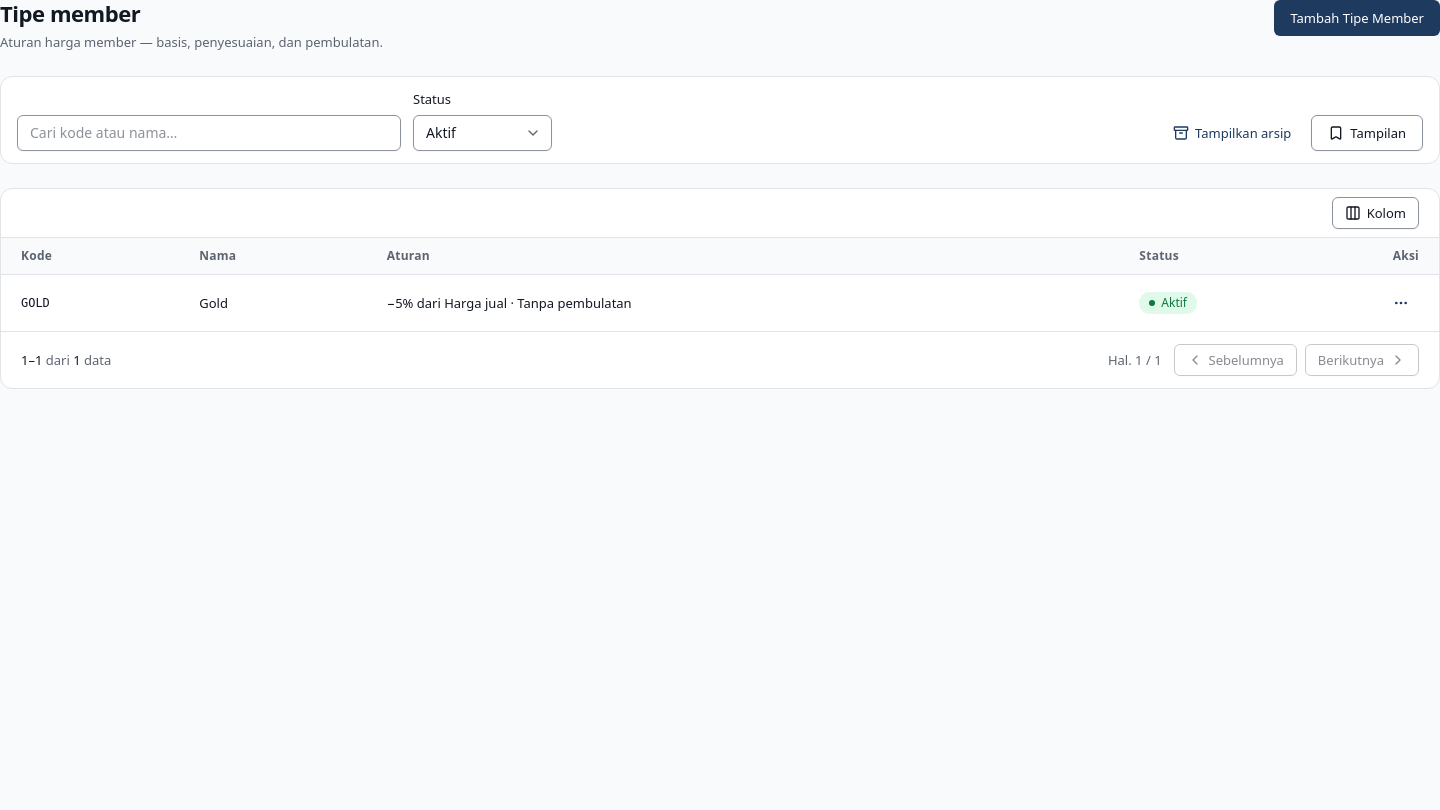
Test: halaman tipe member — dampak arsip (D3) › gagal memuat jumlah: peringatan tetap muncul dan arsip tidak terhalang
expect the text "Gold" is shown: met, box [199,294,228,312]
Click the button named "Aksi untuk Gold" at (1401, 302), box [1383,284,1419,320]
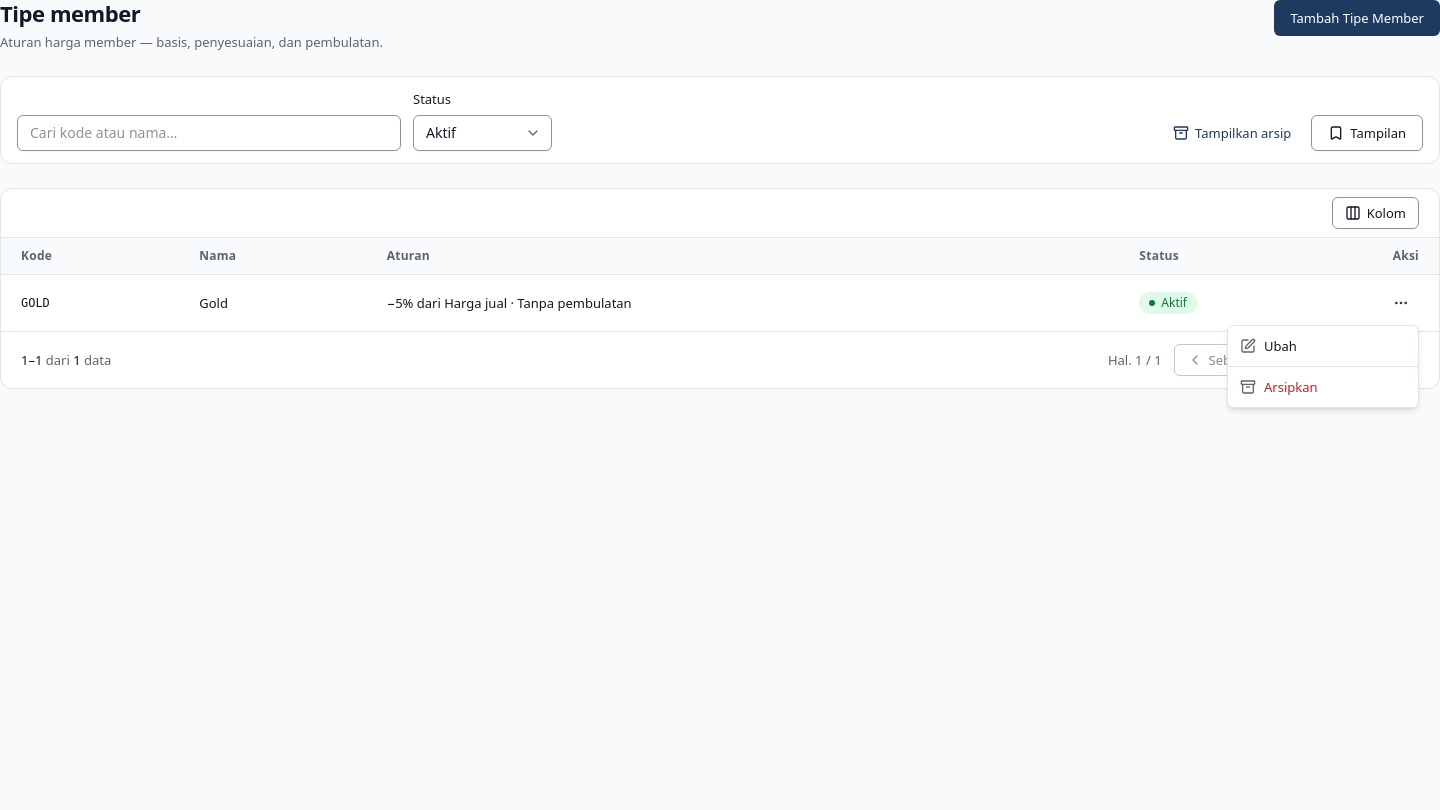
Click the menu item "Arsipkan" at (1279, 387), box [1240,378,1318,396]
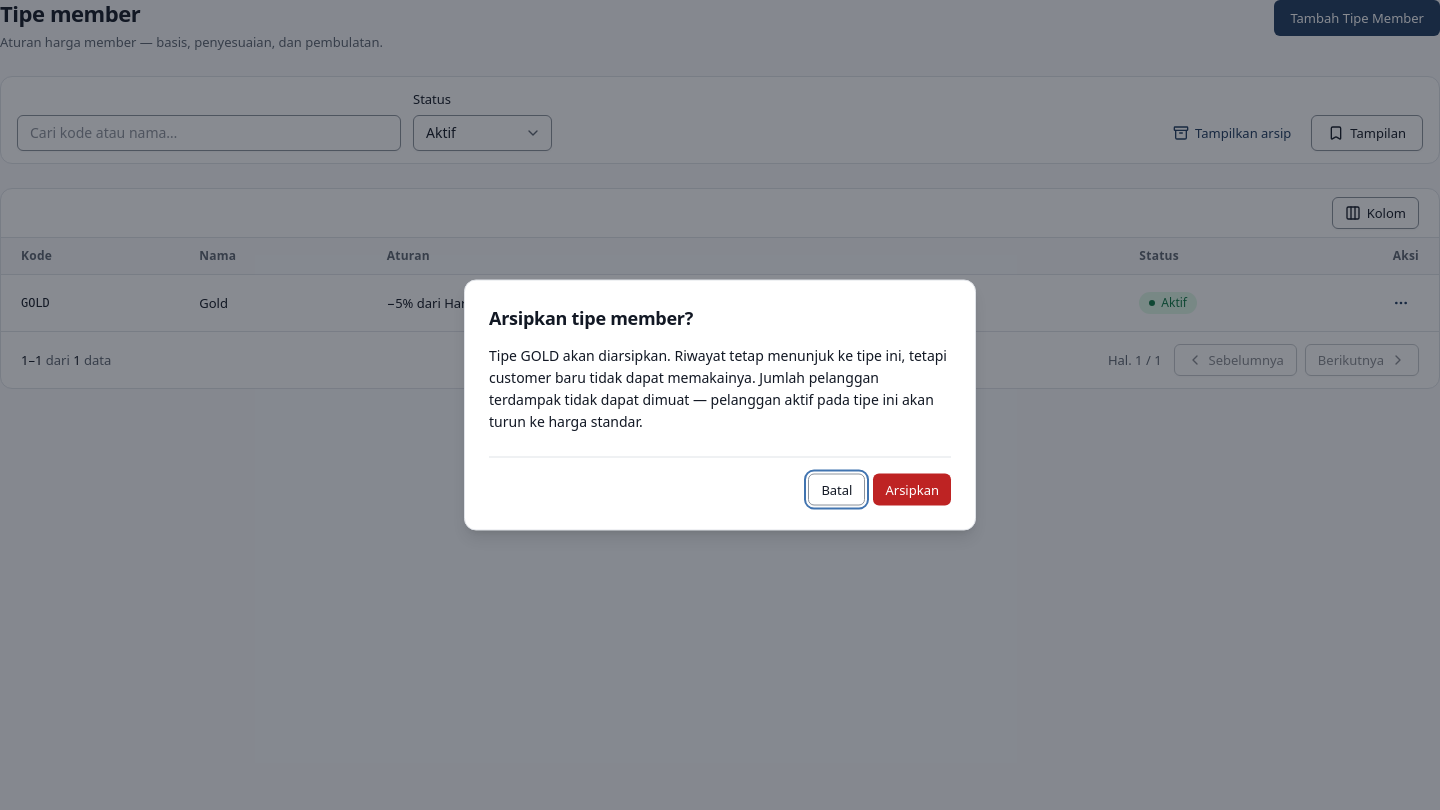
expect the text "Jumlah pelanggan terdampak tidak dapat dimuat" is shown: met, box [489,346,947,430]
expect the button "Arsipkan" is enabled: met, box [874,474,951,506]
